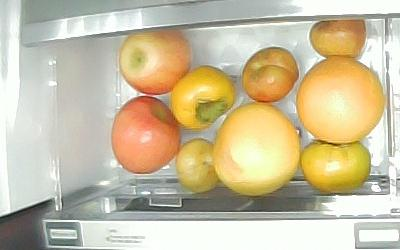apple: (111, 95, 180, 174), (118, 29, 191, 95)
grapefruit: (214, 103, 301, 196), (295, 56, 385, 143)
persimmon: (170, 65, 235, 129), (301, 139, 371, 193)
prune: (241, 46, 298, 104), (308, 18, 366, 58), (175, 138, 217, 192)
